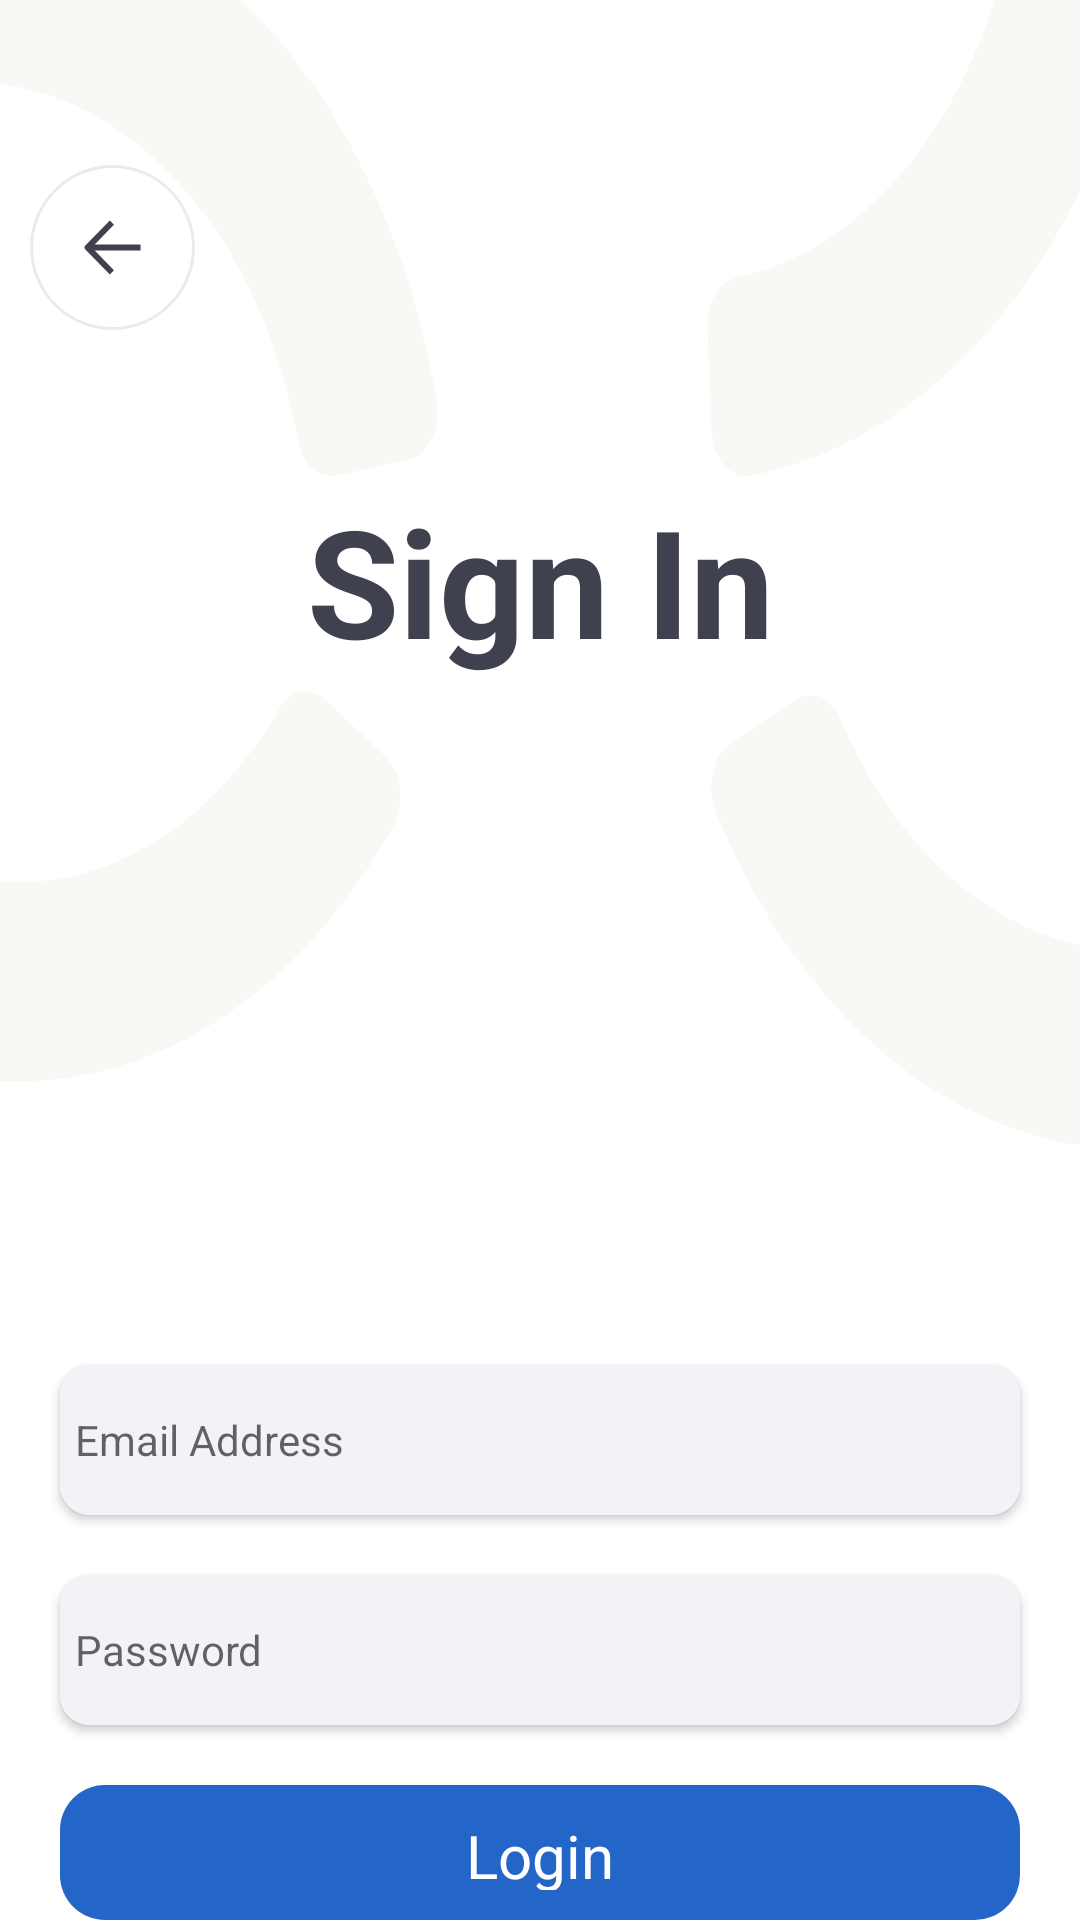

Locate icon controls on the screen. Image size 1080×1920, boxes as [x1, y1, x2, y2].
back: [84, 220, 141, 275]
